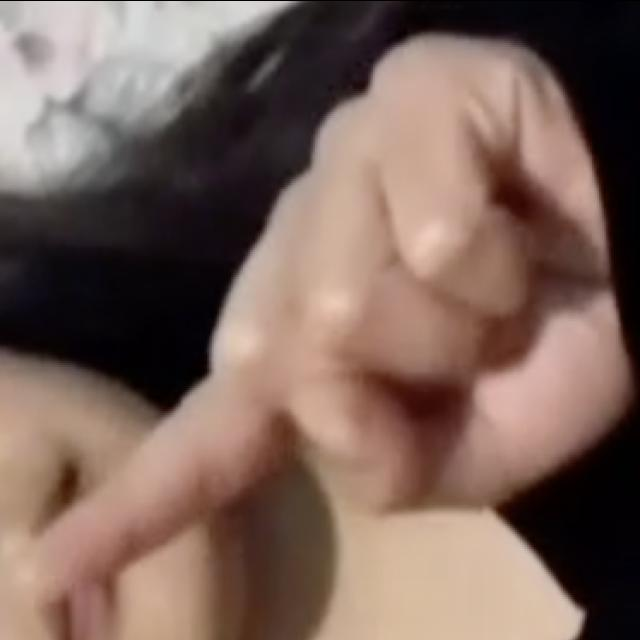Z: (11, 29, 635, 622)
